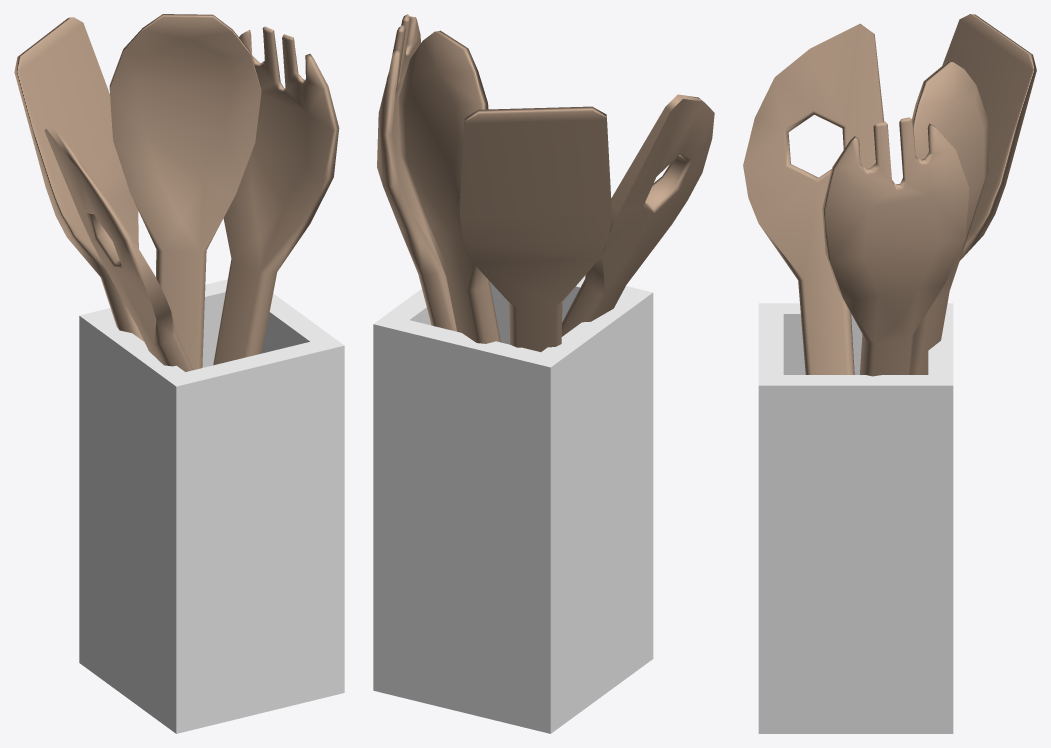
3 renders of one model, left to right at view 1: azimuth 30°, elevation 25°; view 2: azimuth 150°, elevation 25°; view 3: azimuth 270°, elevation 25°, orthographic. The views are drawn at different scales.
Parts seen in each view (by area): view 1: prop.082; view 2: prop.082; view 3: prop.082.
Boxes of the visible parts, left/top/right/bottom form: prop.082: left=14, top=14, right=344, bottom=733; prop.082: left=373, top=14, right=714, bottom=733; prop.082: left=743, top=14, right=1036, bottom=733.
Bounding box in the file's own units: 0.2223 × 0.4845 × 0.2047.
